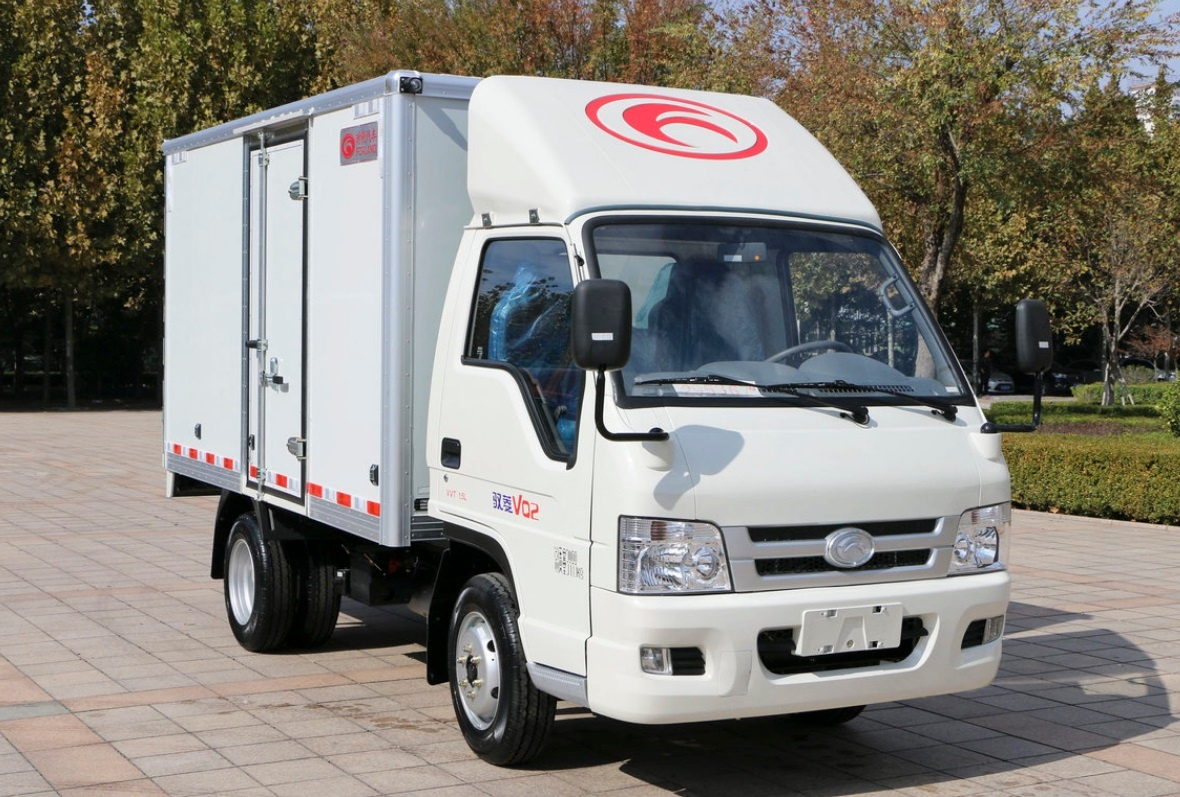truck: (142, 67, 1036, 751)
